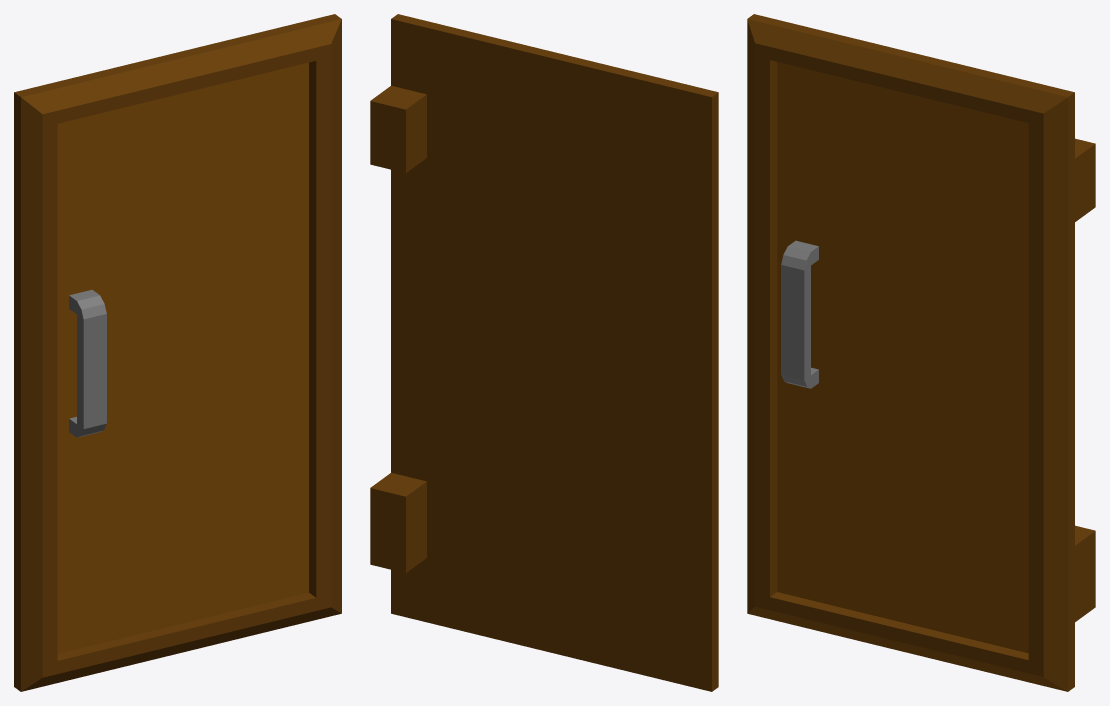
The model's file is Cupboard_2_Right_Door.fbx.
3 renders of one model, left to right at view 1: azimuth 30°, elevation 25°; view 2: azimuth 150°, elevation 25°; view 3: azimuth 330°, elevation 25°, orthographic.
Visible parts, largest first — view 1: Cube.183; view 2: Cube.183; view 3: Cube.183.
Part boxes in pixels (x1,y1,x2,y2): Cube.183: [14, 14, 341, 691]; Cube.183: [370, 14, 718, 691]; Cube.183: [747, 14, 1095, 691].
Bounding box in the file's own units: 50.02 × 88.58 × 11.37.
